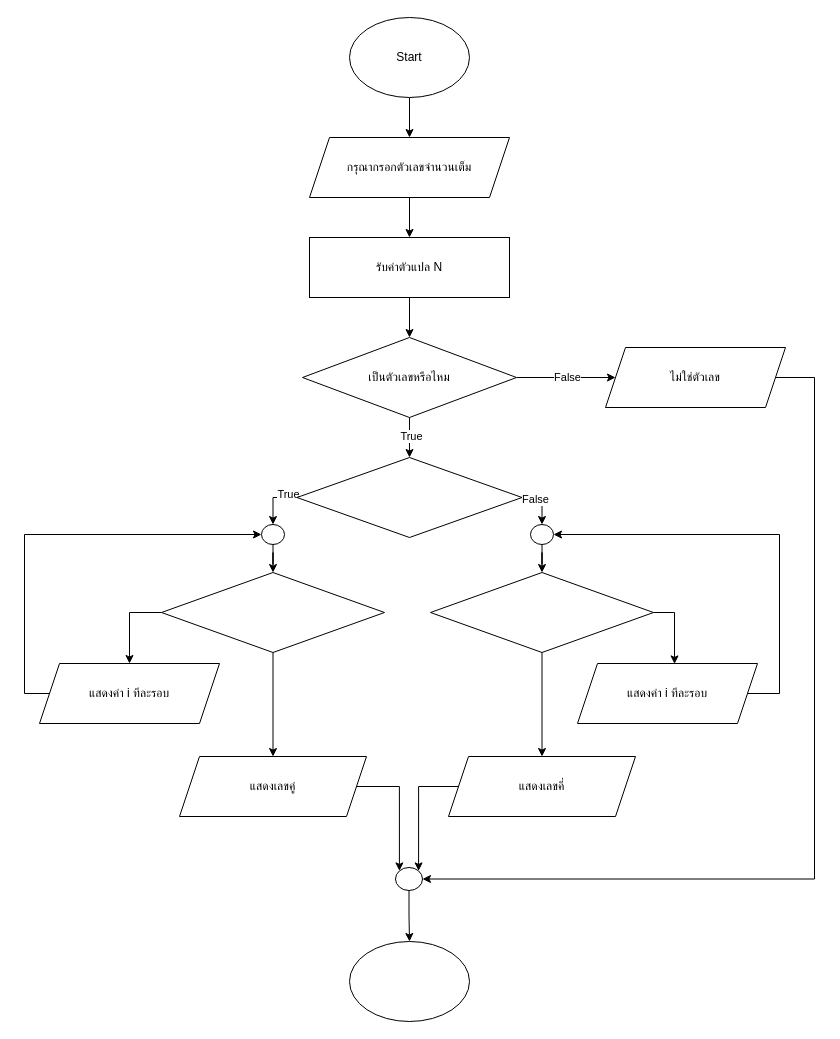
The diagram is 840 pixels wide and 1039 high, and some of its shapes have lost their labels. Each missing label, with the centre of its shape:
"End" belongs at pixel 409 981.
"i = 1 ถึง N เพิ่มทีละ 2" belongs at pixel 542 612.
"i = N ถึง 0 ลดทีละ 2" belongs at pixel 272 612.
"เป็นเลขคู่หรือไหม" belongs at pixel 409 497.
